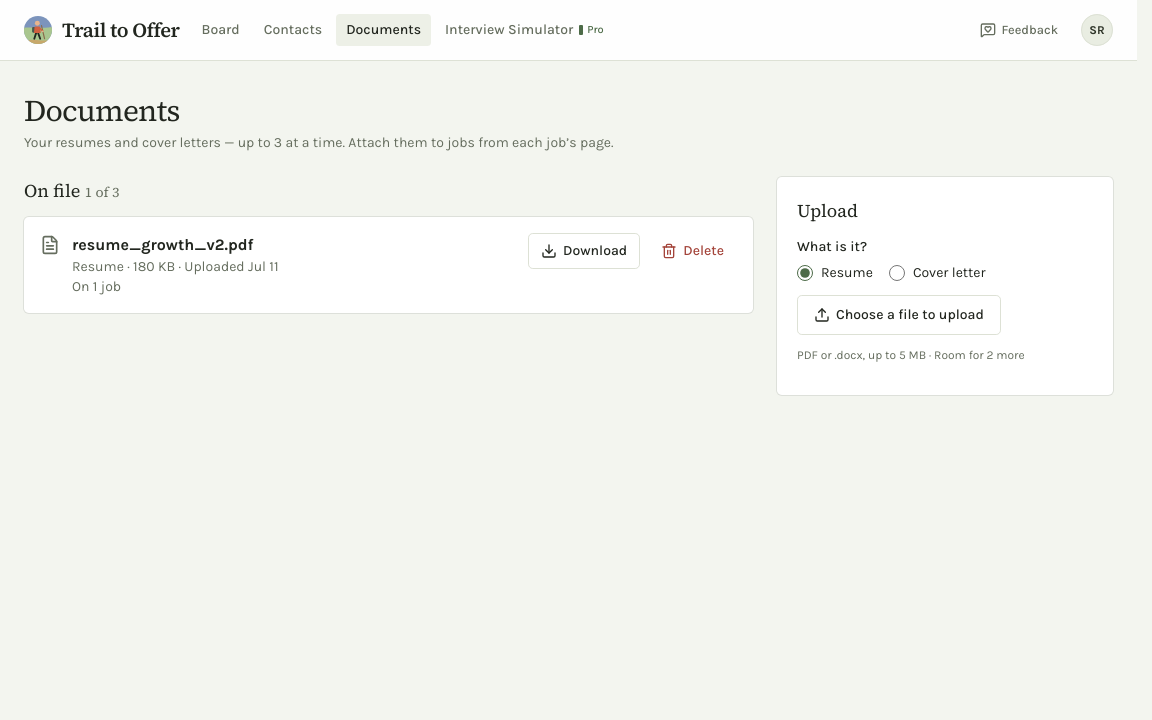
the documents page (tickets 15, 16) › DOC-6: deleting asks first, names the jobs that use it, then removes it from the list
Click the button with aria-label "Delete resume_growth_v2.pdf" at (693, 251), box x1=648 y1=233 x2=737 y2=269
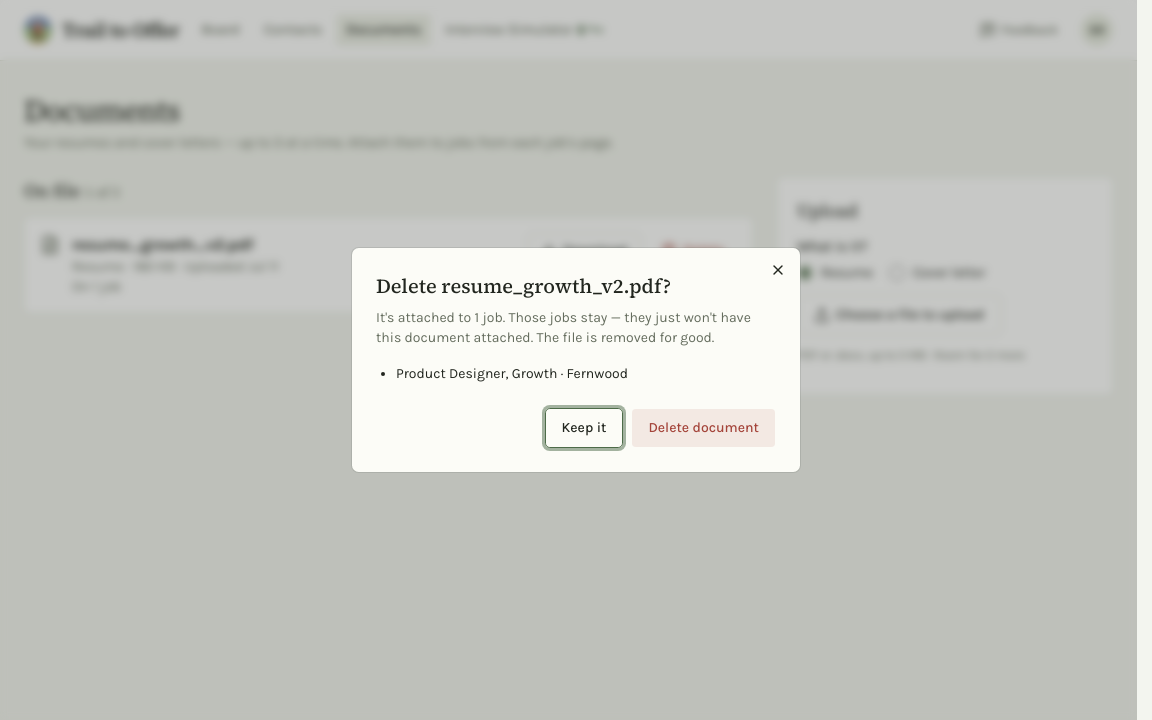
Check: the dialog "Delete resume_growth_v2.pdf?" shows "attached to 1 job", box x1=376 y1=309 x2=751 y2=346
Check: the list item "Product Designer, Growth · Fernwood" is shown, box x1=396 y1=365 x2=628 y2=382
Click the button "Delete document" at (704, 428), box x1=631 y1=408 x2=776 y2=448
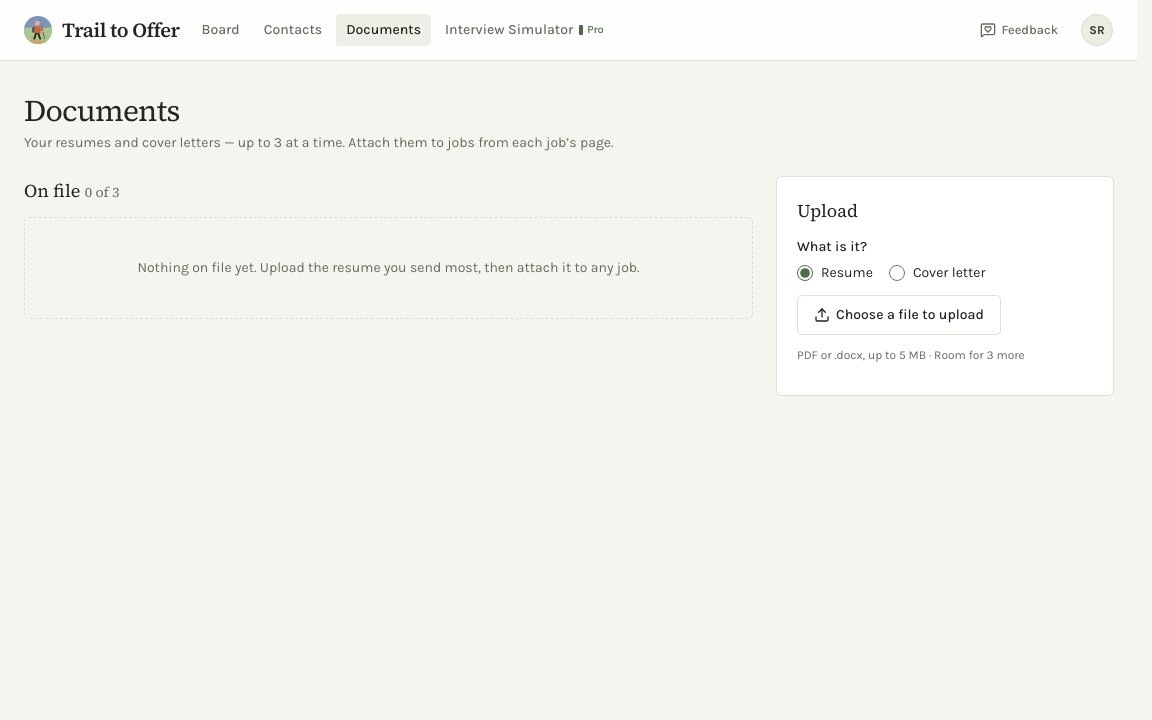
Check: the text "resume_growth_v2.pdf" is gone
